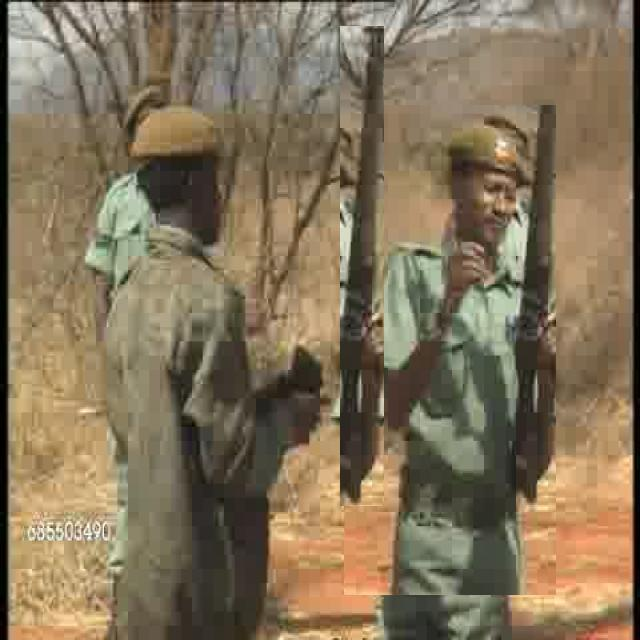poacher: (344, 105, 556, 595), (109, 98, 260, 568)
weapon: (340, 26, 384, 506)
